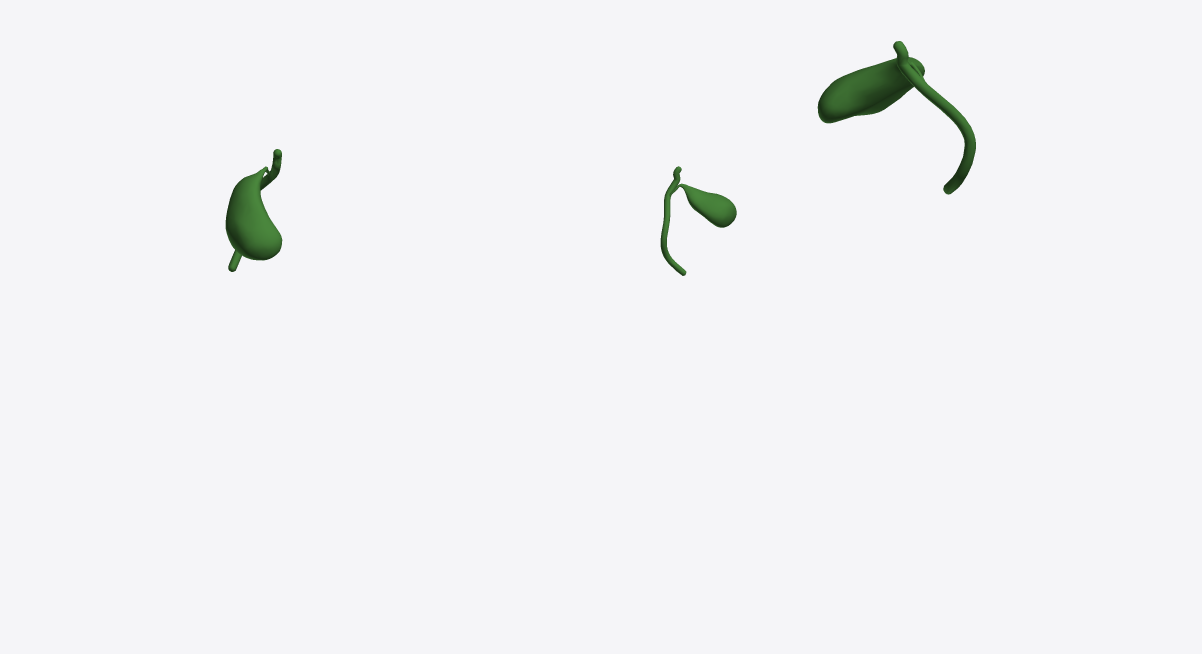
The picture shows the model from 3 angles, left to right: view 1: azimuth 30°, elevation 25°; view 2: azimuth 150°, elevation 25°; view 3: azimuth 270°, elevation 25°; orthographic projection. The views are drawn at different scales.
Parts seen in each view (by area): view 1: ot; view 2: ot; view 3: ot.
Boxes of the visible parts, x1,y1,x2,y2 form: ot: (225, 149, 282, 271); ot: (660, 166, 736, 275); ot: (817, 41, 975, 194).
Size of the model in its own units: 0.2441 by 0.4258 by 0.191.
